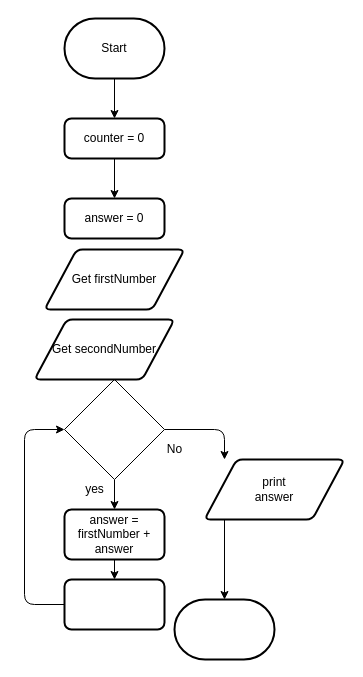
Image size: 363x677. Some labels were removed from this diagram. The centre of each missing label's shape, as x and y in pixels:
"counter ++" belongs at (x=114, y=604).
"Stop" belongs at (x=224, y=629).
"while counter < secondNumber" belongs at (x=114, y=429).
